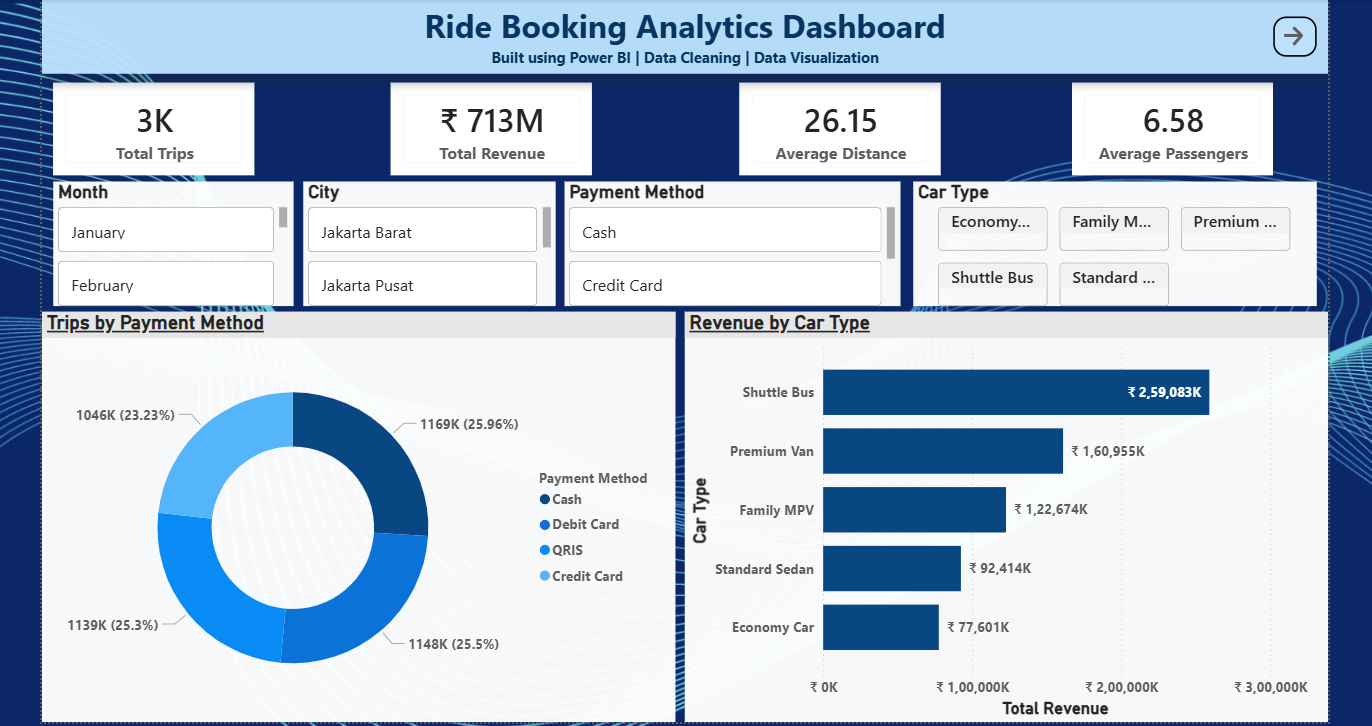

The dashboard page shown, as its layout file describes it:
{"tool":"powerbi","page":{"name":"Overview","canvas":[1280,720],"ordinal":0},"visuals":[{"type":"cardVisual","fields":{"Data":["Online_Car_Details.Total Trips"]},"box":[11.2,83.3,200.3,92.1],"z":0},{"type":"cardVisual","fields":{"Data":["Online_Car_Details.Total Revenue"]},"box":[347.1,83.3,200.3,92.1],"z":1000},{"type":"cardVisual","fields":{"Data":["Online_Car_Details.Average Passenger"]},"box":[1025,83.3,200.3,92.1],"z":2000},{"type":"cardVisual","fields":{"Data":["Online_Car_Details.Average Distance"]},"box":[694.1,83.3,200.3,92.1],"z":3000},{"type":"donutChart","title":"Trips by Payment Method","fields":{"Category":["Online_Car_Details.payment_method","Location_Details.City"],"Series":["Online_Car_Details.payment_method"],"Y":["Sum(Online_Car_Details.trip_id )"]},"box":[0,311,630.7,409.3],"z":4000},{"type":"clusteredBarChart","title":"Revenue by Car Type","fields":{"Category":["Online_Car_Details.car_type"],"Y":["Online_Car_Details.Total Revenue"]},"box":[639.4,311,640.6,409.3],"z":5000},{"type":"advancedSlicerVisual","fields":{"Values":["Ride_Booking_Details.Pickup_Fixed.Variation.Date Hierarchy.Month"]},"box":[11.2,181.6,238.8,124.4],"z":6000},{"type":"advancedSlicerVisual","fields":{"Values":["Location_Details.City"]},"box":[260,181.6,251.3,124.4],"z":7000},{"type":"advancedSlicerVisual","fields":{"Values":["Ride_Booking_Details.Payment_Method"]},"box":[520,181.6,334.6,124.4],"z":8000},{"type":"cardVisual","title":"Car Type","fields":{"Rows":["Ride_Booking_Details.Car_Type"]},"box":[867,181.6,401.8,124.4],"z":9000},{"type":"textbox","box":[0,0,1280,74.6],"z":10000},{"type":"actionButton","box":[1225.3,17.4,43.5,39.8],"z":11000}]}

Visuals, with their boxes in screenshot pixels (x1, y1, x2, y2):
cardVisual - Online_Car_Details.Total Trips: 61,83,260,174
cardVisual - Online_Car_Details.Total Revenue: 395,83,594,174
cardVisual - Online_Car_Details.Average Passenger: 1068,83,1267,174
cardVisual - Online_Car_Details.Average Distance: 740,83,939,174
"Trips by Payment Method" donutChart: 50,309,677,716
"Revenue by Car Type" clusteredBarChart: 685,309,1322,716
advancedSlicerVisual - Ride_Booking_Details.Pickup_Fixed.Variation.Date Hierarchy.Month: 61,180,298,304
advancedSlicerVisual - Location_Details.City: 308,180,558,304
advancedSlicerVisual - Ride_Booking_Details.Payment_Method: 567,180,899,304
"Car Type" cardVisual: 911,180,1310,304
textbox: 50,0,1322,74
actionButton: 1267,17,1310,57
